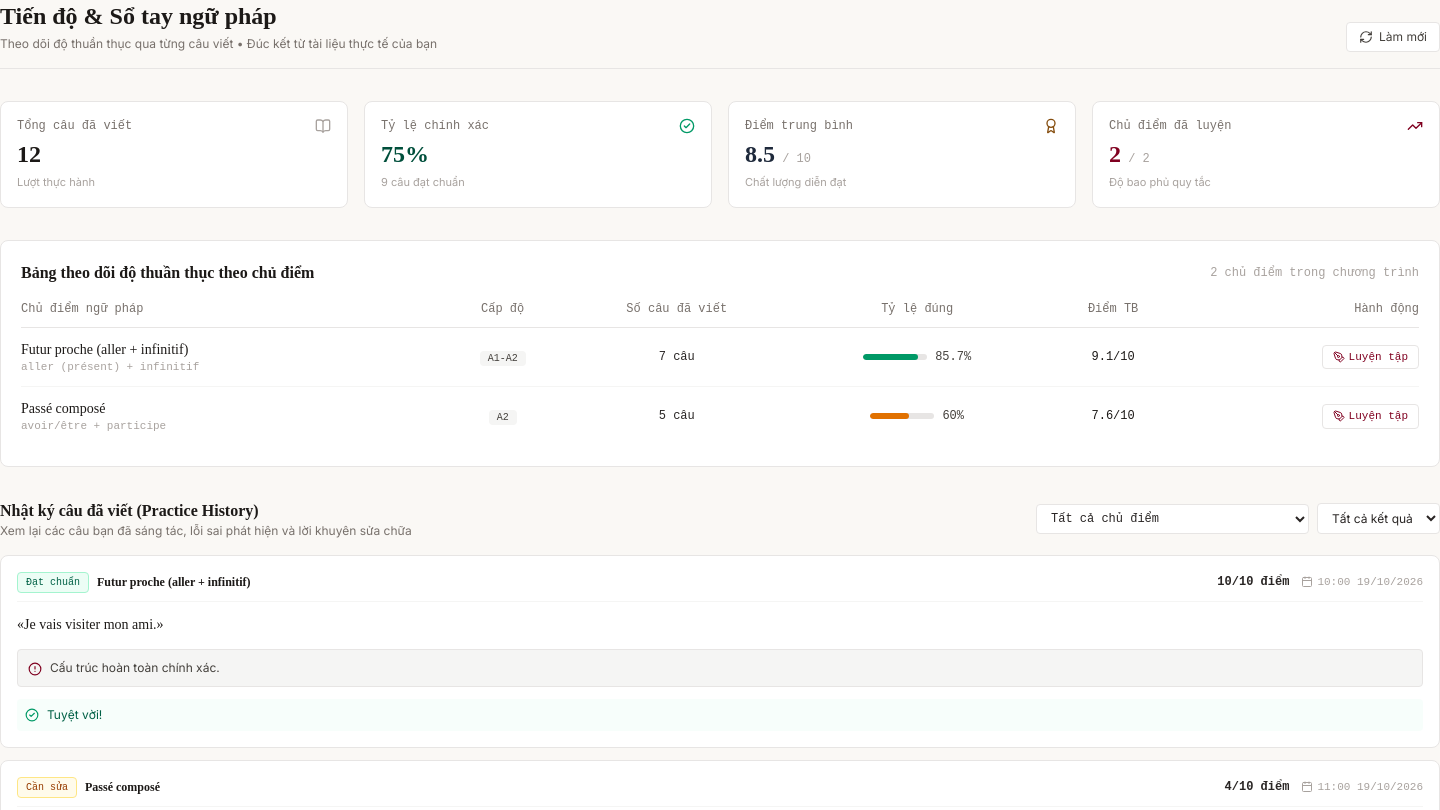
Test: Task 7 - Notebook & Learning History View › filters history by status (correct vs needs_work)
expect the text "«Je vais visiter mon ami.»" is shown: met, box [17, 617, 164, 632]
// Filter to only needs work
Select "Cần cải thiện" in the 2nd dropdown at [1378, 519], box [1317, 503, 1439, 534]
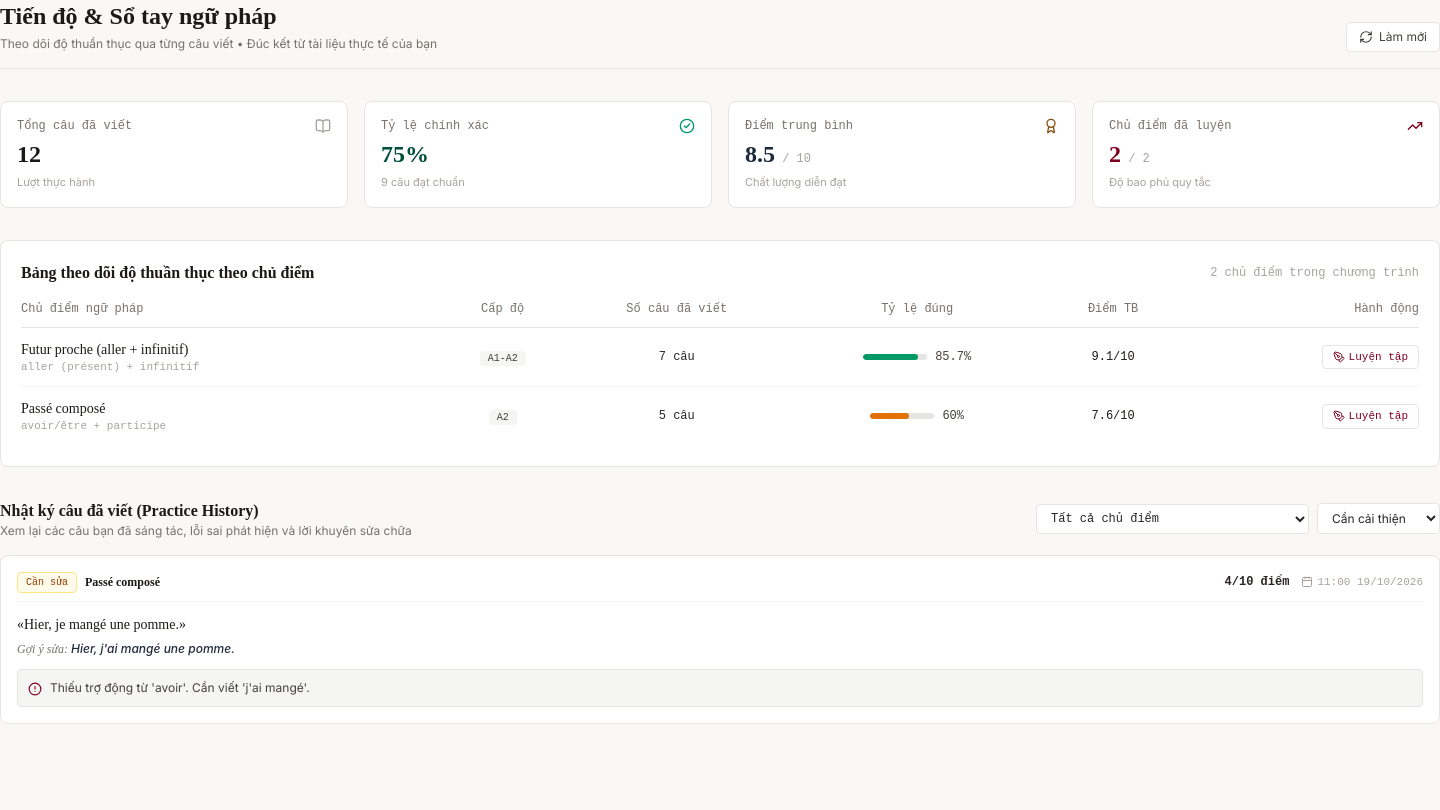
expect the text "«Hier, je mangé une pomme.»" is shown: met, box [17, 617, 186, 632]
expect the text "Je vais visiter mon ami" is gone: met
